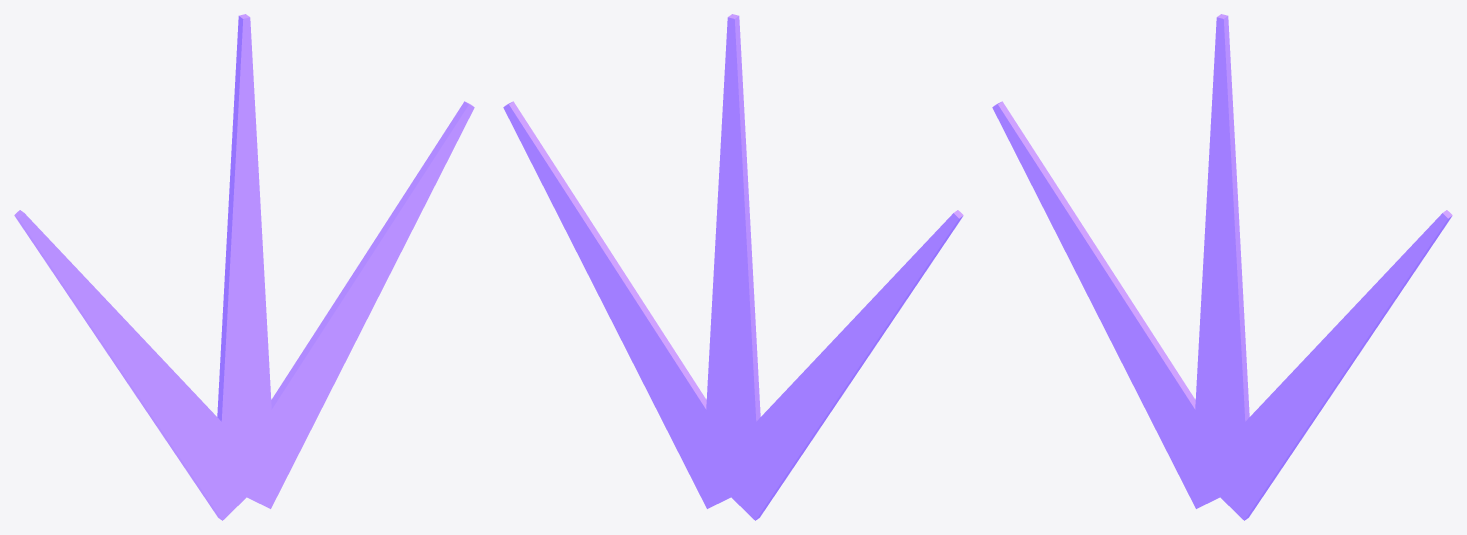
The model's file is dc_shade_wing.glb.
3 views of the same model, side by side, from view 1: azimuth 30°, elevation 25°; view 2: azimuth 150°, elevation 25°; view 3: azimuth 330°, elevation 25° (orthographic).
Parts seen in each view (by area): view 1: part.dc_shade_wing; view 2: part.dc_shade_wing; view 3: part.dc_shade_wing.
Part boxes in pixels (box(x1,y1,x2,y2)): part.dc_shade_wing: box(14, 14, 474, 520); part.dc_shade_wing: box(503, 14, 963, 520); part.dc_shade_wing: box(992, 14, 1452, 520).
Bounding box in the file's own units: 0.6971 × 0.7258 × 0.012.
